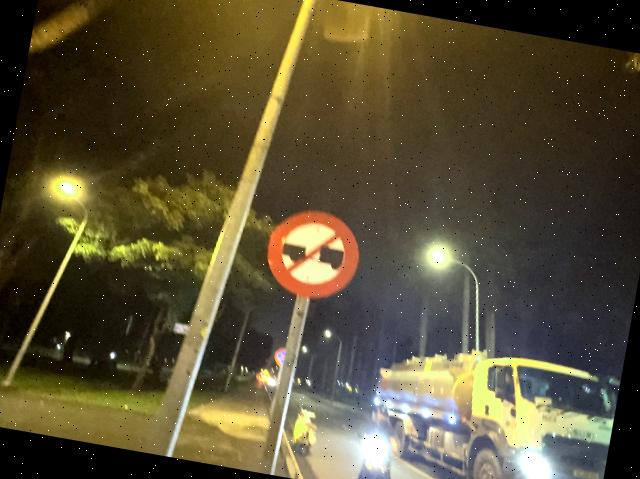cam-xe-somi-romooc: (260, 202, 366, 304)
